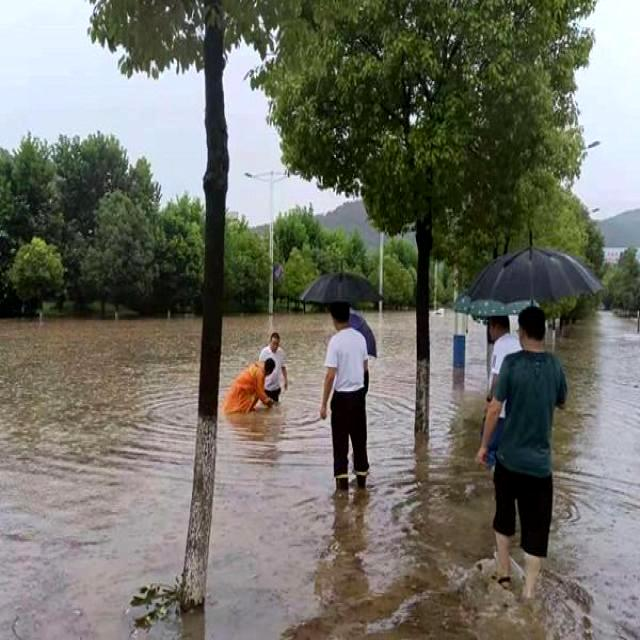civilian: (493, 300, 566, 578), (319, 300, 387, 486), (472, 314, 524, 464), (228, 351, 281, 425), (258, 326, 296, 416)
